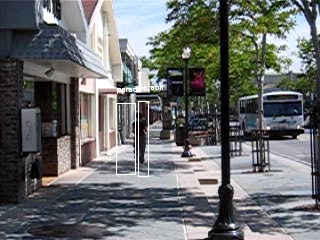person: (131, 113, 149, 166), (130, 113, 148, 166), (132, 113, 150, 166), (131, 112, 149, 165), (131, 114, 149, 167)
target_negative: (133, 41, 161, 238), (224, 133, 275, 169), (238, 196, 280, 206), (274, 215, 291, 234), (171, 162, 235, 167)
